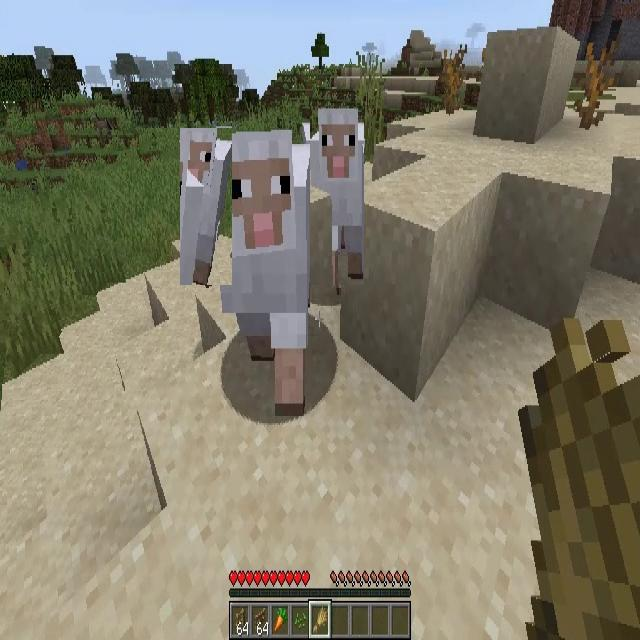sheep: (208, 132, 310, 417), (310, 106, 364, 285), (180, 128, 232, 285)
